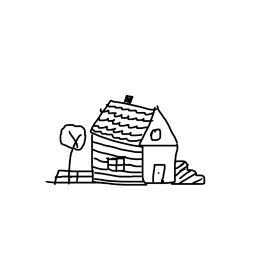chimney: (119, 88, 138, 111)
closed_window: (106, 156, 128, 173)
door: (151, 160, 169, 186)
roof: (87, 92, 179, 150)
small_house: (2, 1, 260, 260)
wall: (89, 131, 146, 188)
